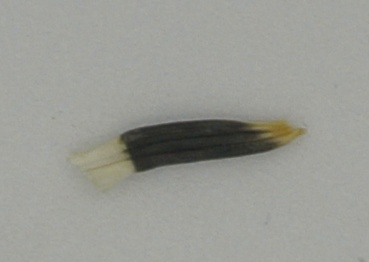เมล็ดดีติดกัน: (64, 110, 313, 193)
